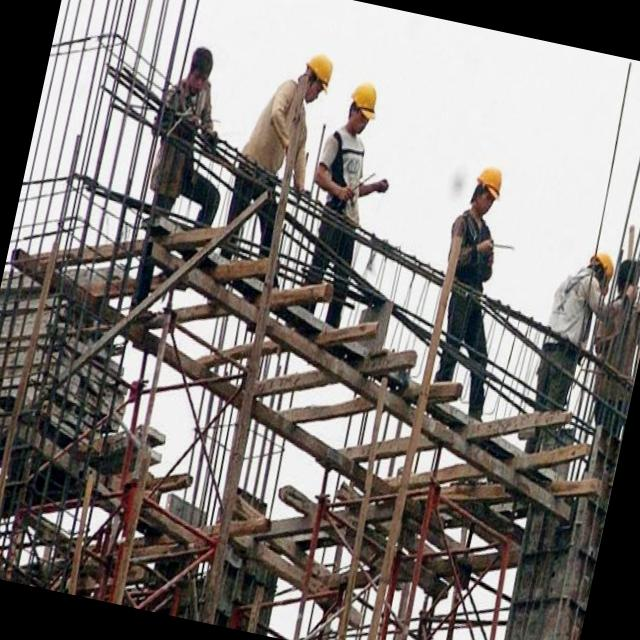helmet: (342, 75, 391, 126), (584, 244, 622, 296), (296, 48, 338, 92), (470, 156, 510, 202)
no-vest: (252, 82, 318, 184), (540, 265, 600, 344), (322, 134, 376, 219), (449, 215, 505, 287)
